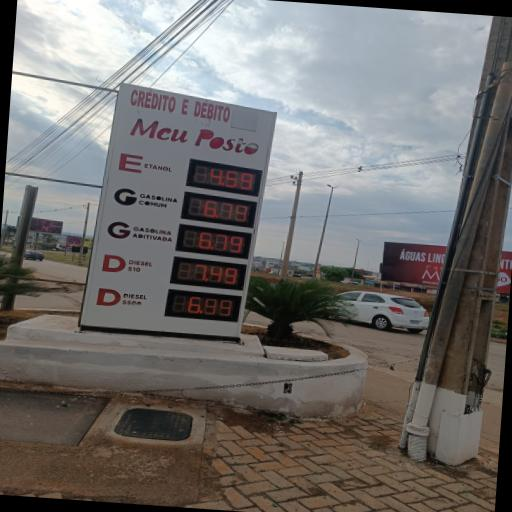ETANOL: (112, 150, 177, 180)
GASOLINA AD: (102, 216, 177, 250)
GASOLINA C: (110, 184, 180, 212)
S10: (97, 249, 161, 285)
S500: (93, 283, 152, 314)
placa: (79, 141, 266, 335)
preco: (196, 229, 247, 256), (208, 164, 256, 192), (202, 198, 252, 224), (192, 262, 240, 288), (185, 294, 235, 318)
